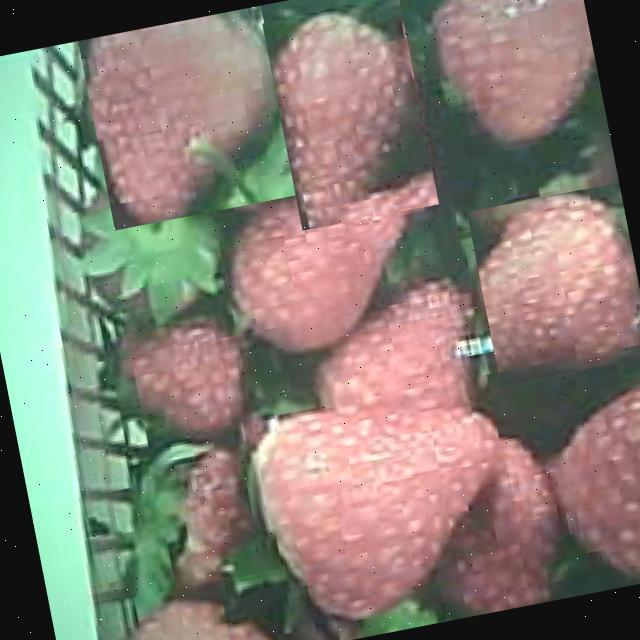ripe: (251, 380, 523, 627), (79, 6, 298, 230), (262, 0, 439, 231), (222, 180, 420, 358), (467, 182, 640, 385), (424, 0, 608, 151)
